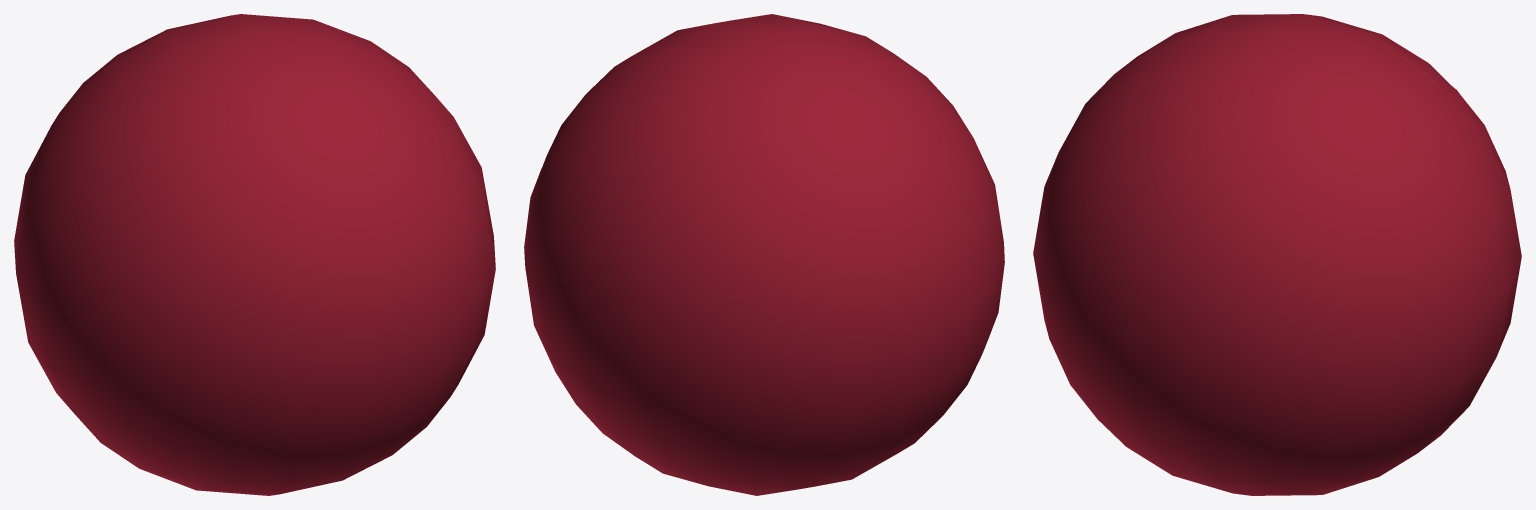
Rendered from ball.obj.
The picture shows the model from 3 angles, left to right: view 1: azimuth 30°, elevation 25°; view 2: azimuth 150°, elevation 25°; view 3: azimuth 270°, elevation 25°; orthographic projection.
Parts seen in each view (by area): view 1: Ball; view 2: Ball; view 3: Ball.
Part boxes in pixels (left/top/right/bottom): Ball: left=14, top=14, right=495, bottom=495; Ball: left=524, top=14, right=1004, bottom=495; Ball: left=1033, top=14, right=1521, bottom=495.
Size of the model in its own units: 2 by 2 by 2.
Materials: 1 (1 with a texture image).
